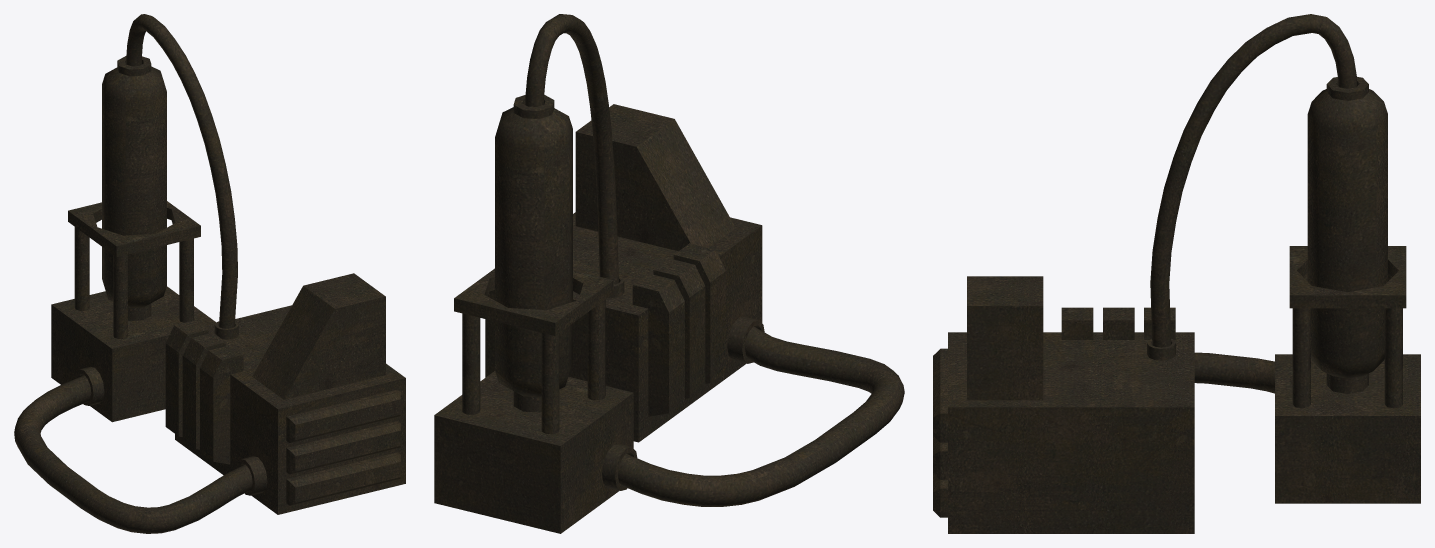
Rendered from test_machine_mx_1.obj.
The picture shows the model from 3 angles, left to right: view 1: azimuth 30°, elevation 25°; view 2: azimuth 150°, elevation 25°; view 3: azimuth 270°, elevation 25°; orthographic projection. The views are drawn at different scales.
Parts seen in each view (by area): view 1: test_machine_mx_1; view 2: test_machine_mx_1; view 3: test_machine_mx_1.
Boxes of the visible parts, x1,y1,x2,y2 form: test_machine_mx_1: [14, 14, 405, 533]; test_machine_mx_1: [434, 14, 904, 533]; test_machine_mx_1: [933, 14, 1420, 533].
Bounding box in the file's own units: 2.66 × 3.52 × 3.4.
